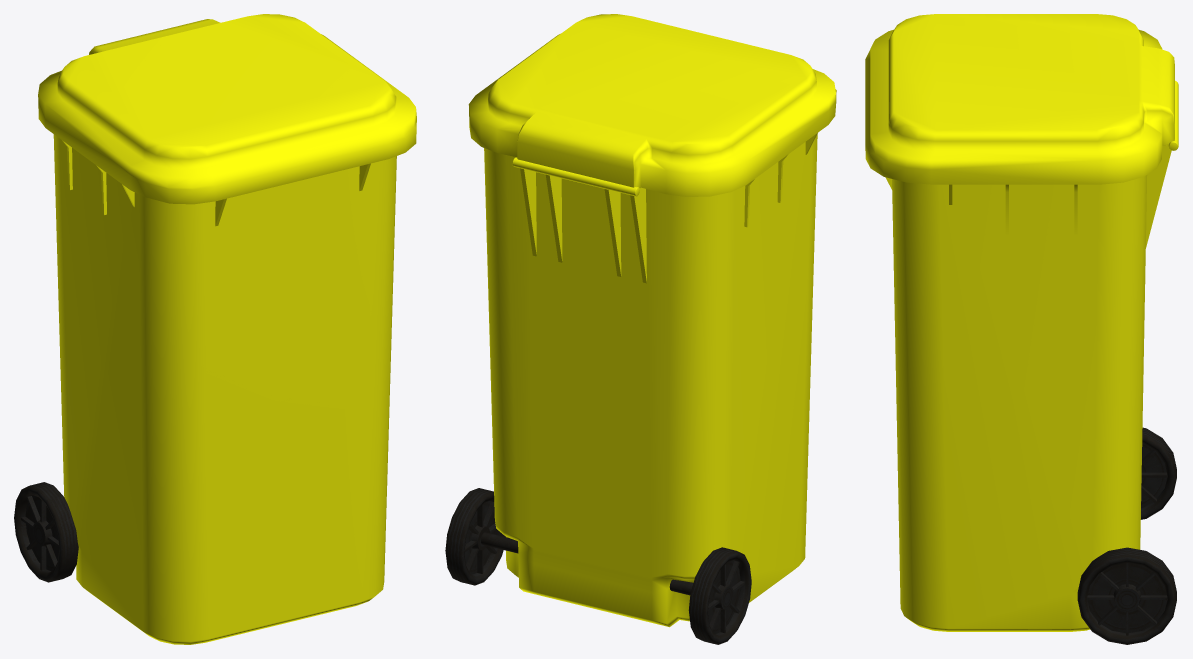
Rendered from almost-full.glb.
The picture shows the model from 3 angles, left to right: view 1: azimuth 30°, elevation 25°; view 2: azimuth 150°, elevation 25°; view 3: azimuth 270°, elevation 25°; orthographic projection. The views are drawn at different scales.
Parts seen in each view (by area): view 1: polySurface52; view 2: polySurface52; view 3: polySurface52.
Part boxes in pixels (x1=…): polySurface52: x1=14, y1=14, x2=416, y2=644; polySurface52: x1=445, y1=14, x2=836, y2=644; polySurface52: x1=865, y1=14, x2=1178, y2=644.
Bounding box in the file's own units: 77 × 134 × 74.63.
2 materials, 2 textured.
